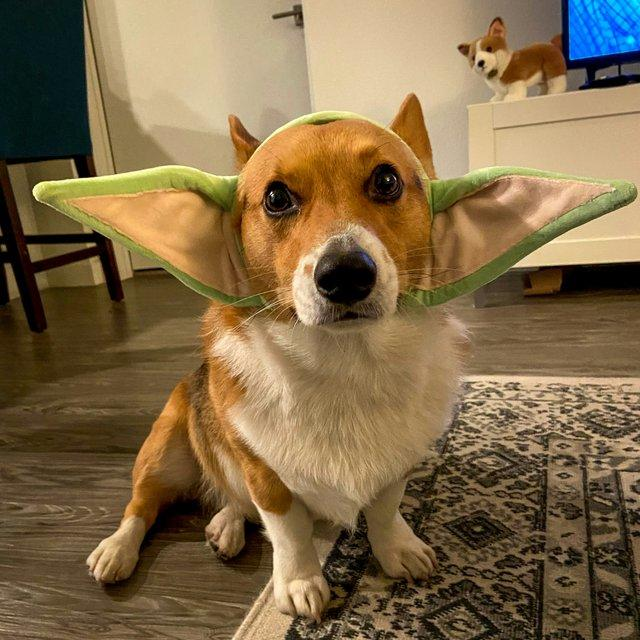corgi: (36, 91, 474, 623)
